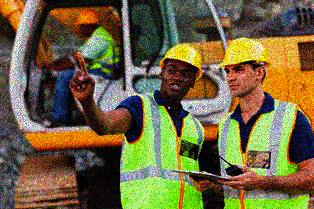helmet: (219, 38, 272, 97), (159, 42, 203, 99), (74, 9, 100, 36)
